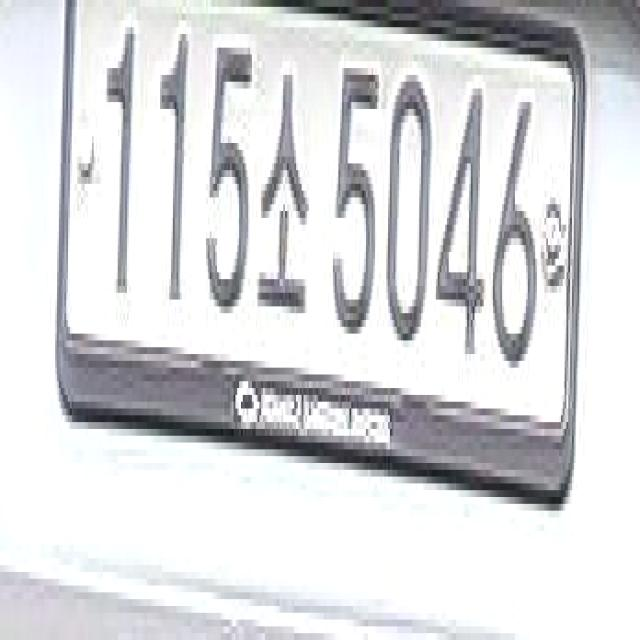illegal_plate: (64, 17, 586, 511)
